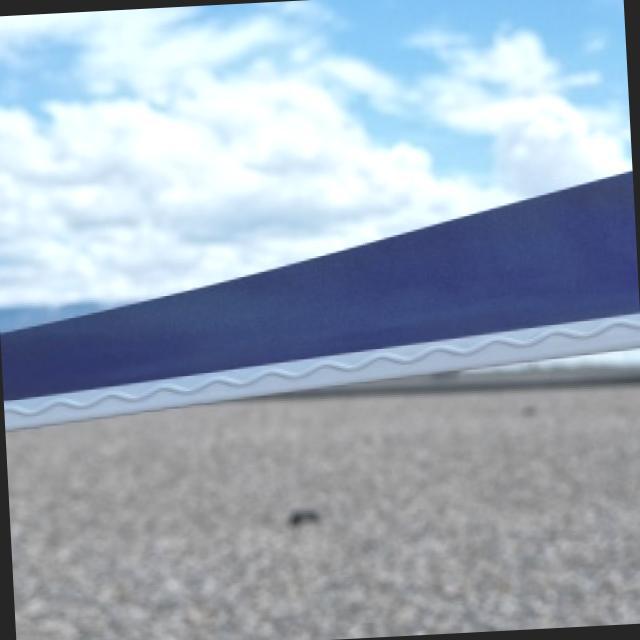healthy: (6, 169, 640, 426)
